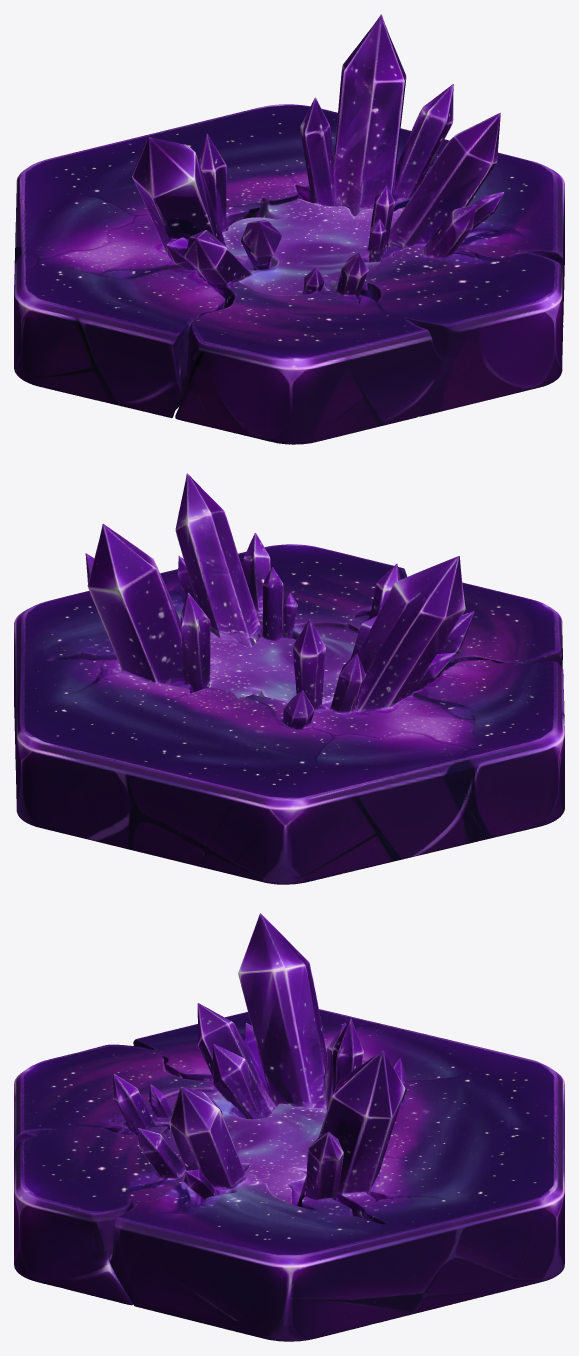
The model's file is Meshy_AI_crystal__0328134308_texture.glb.
3 renders of one model, top to bottom at view 1: azimuth 30°, elevation 25°; view 2: azimuth 150°, elevation 25°; view 3: azimuth 270°, elevation 25°, orthographic.
Bounding box in the file's own units: 1.9 × 0.7803 × 1.7.
Materials: 1 (1 with a texture image).
